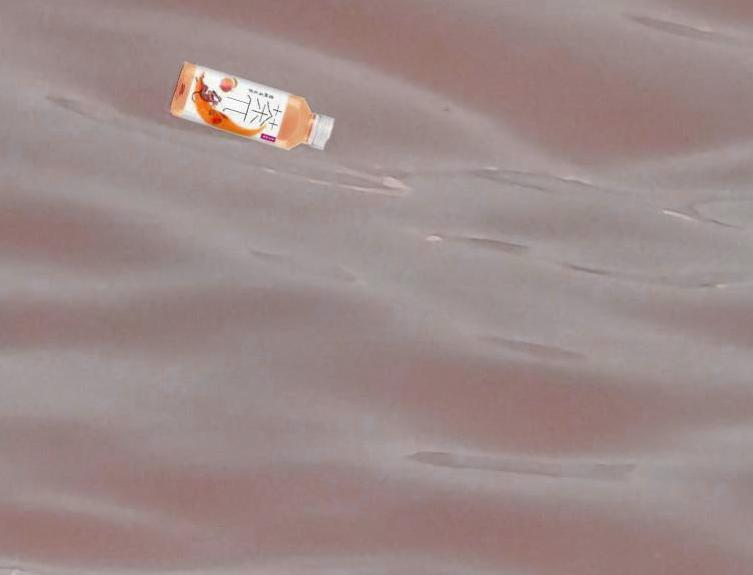Plastic: (166, 58, 342, 160)
